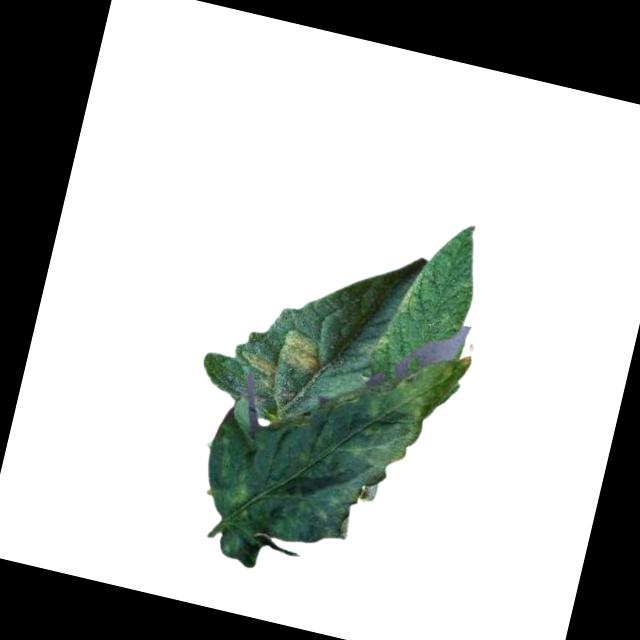Leaf_Mold: (185, 301, 480, 610), (232, 345, 284, 391), (275, 328, 324, 376), (394, 266, 428, 318)
